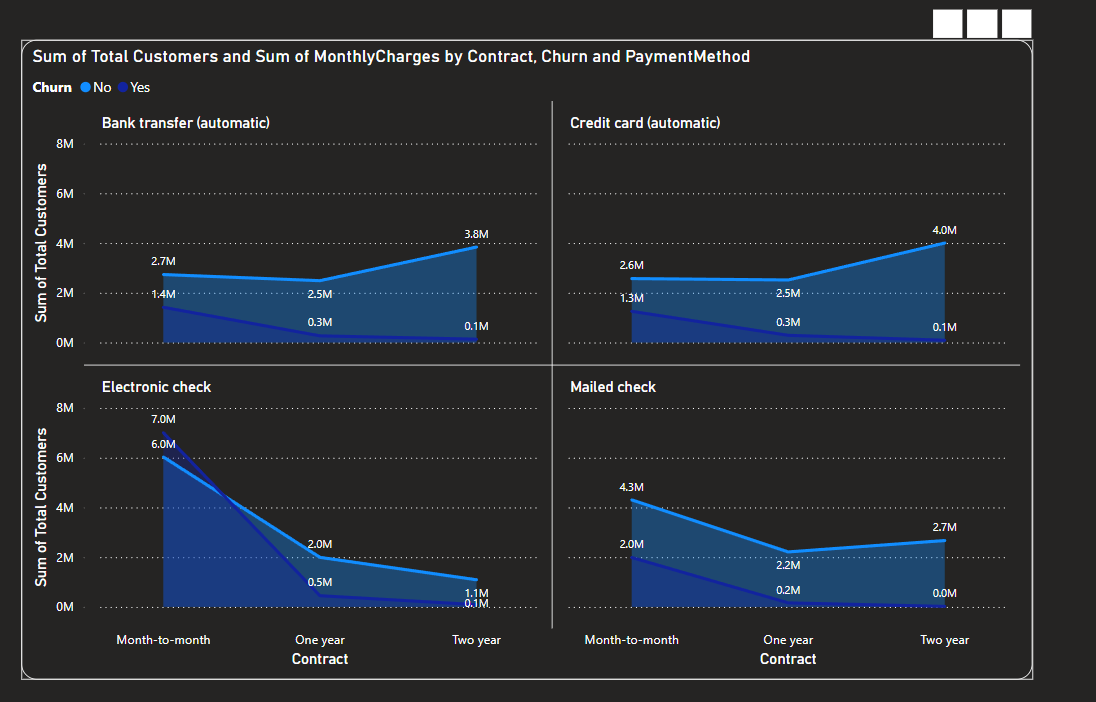

The page's visual inventory and layout, read from the dashboard file:
{"tool":"powerbi","page":{"name":"Page 2","canvas":[1280,720],"ordinal":1},"visuals":[{"type":"lineChart","fields":{"Y":["Sum(01 Churn-Dataset.Total Customers)"],"Category":["01 Churn-Dataset.Contract"],"Series":["01 Churn-Dataset.Churn"],"Rows":["01 Churn-Dataset.PaymentMethod"]},"box":[150.8,61.5,976,617.7],"z":0}]}

Visuals, with their boxes on the page's 1280x720 design canvas (x1, y1, x2, y2). These are canvas units, not pixel positions in the 1096x702 screenshot, which may show the page scaled, cropped or inside an application window:
lineChart - Sum(01 Churn-Dataset.Total Customers) x 01 Churn-Dataset.Contract: crop(151, 62, 1127, 679)
